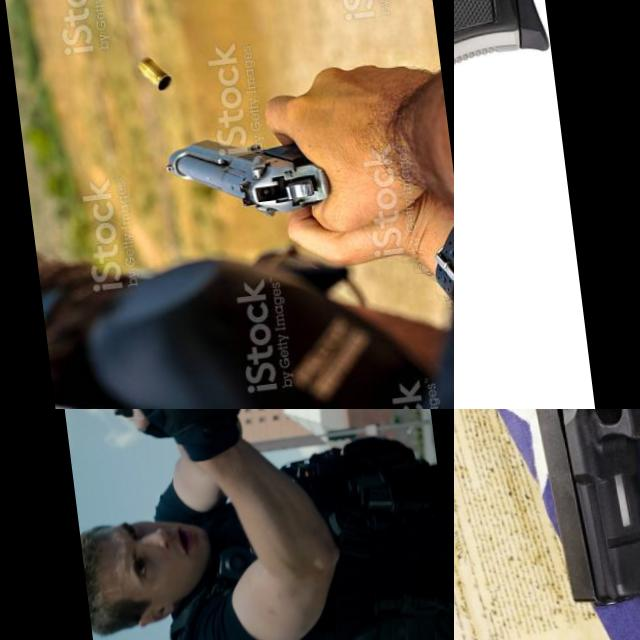handgun: (454, 0, 640, 409), (477, 409, 640, 640), (158, 122, 334, 230), (87, 409, 175, 480)
